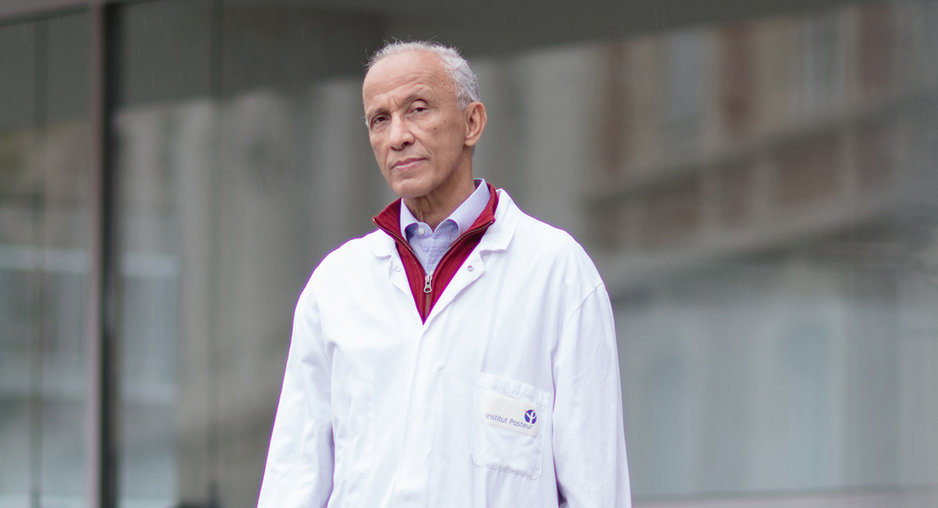without_mask: (373, 79, 452, 192)
